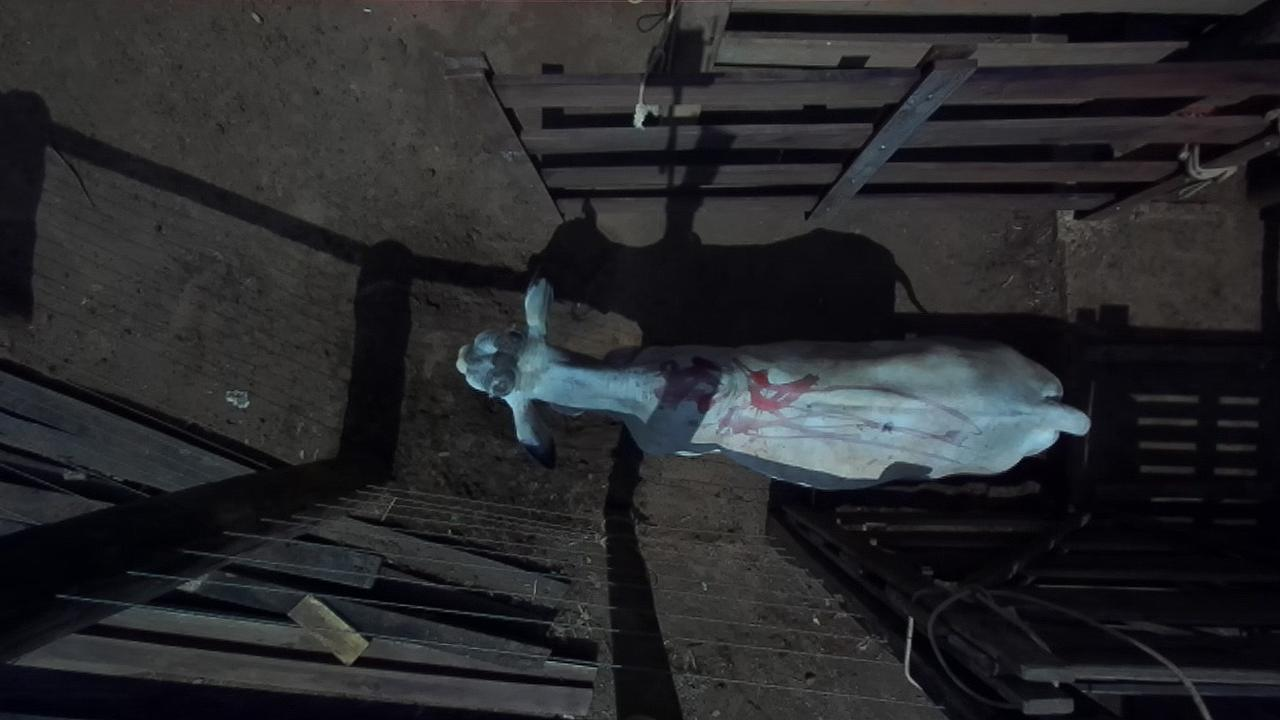cattle: (454, 276, 1092, 491)
